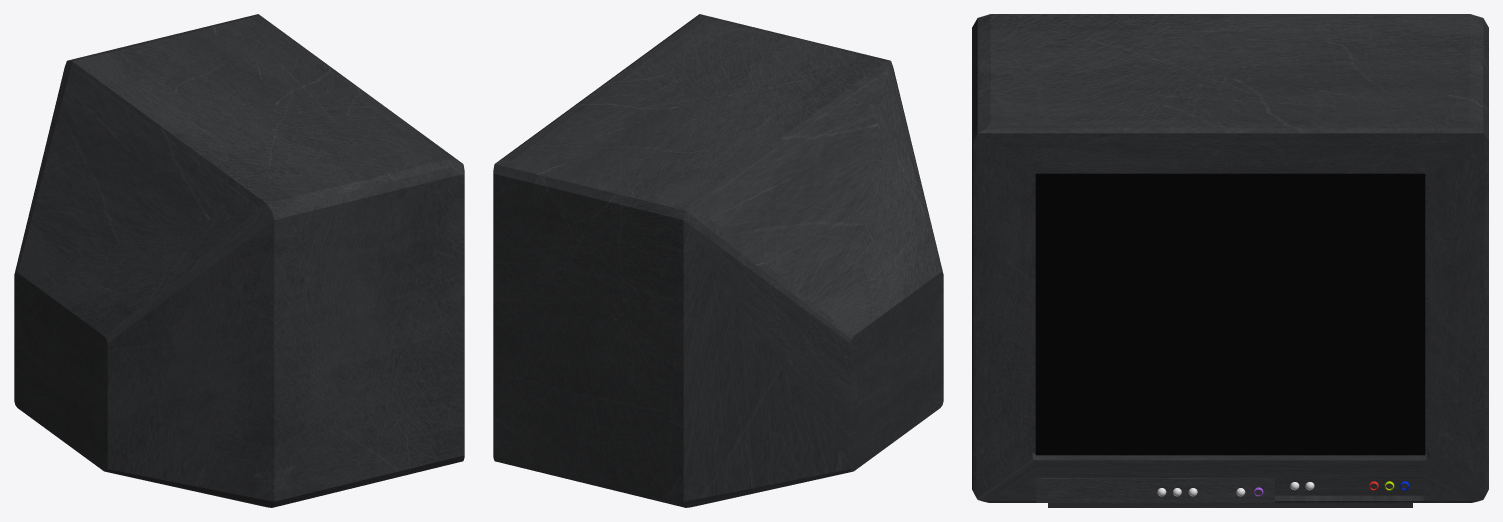
Rendered from CRTTV.fbx.
The picture shows the model from 3 angles, left to right: view 1: azimuth 30°, elevation 25°; view 2: azimuth 150°, elevation 25°; view 3: azimuth 270°, elevation 25°; orthographic projection. The views are drawn at different scales.
Visible parts, largest first — view 1: Cube; view 2: Cube; view 3: Cube, 平面, 立方体.
Boxes of the visible parts, <box> form: Cube: <box>14,14,464,507</box>; Cube: <box>493,14,943,507</box>; Cube: <box>972,14,1488,502</box>; 平面: <box>1035,173,1425,455</box>; 立方体: <box>1048,503,1412,507</box>.
Size of the model in its own units: 168 by 164 by 200.
